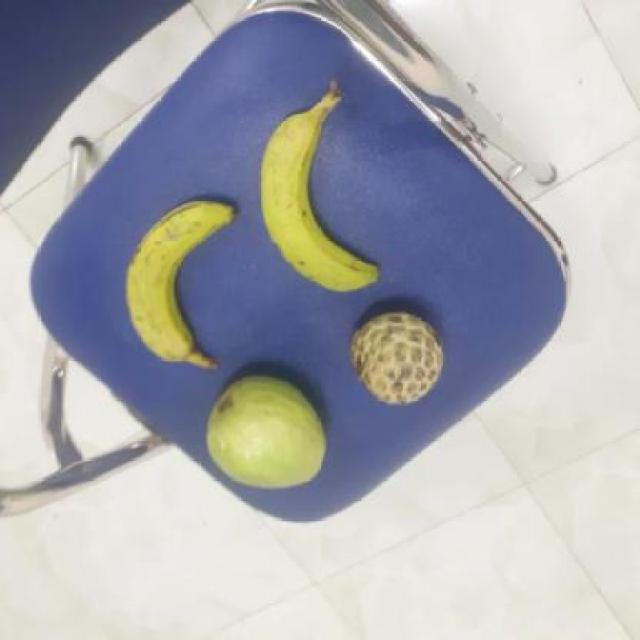banana: (259, 106, 383, 294), (124, 203, 245, 369)
guava: (204, 372, 330, 492)
sugar apple: (352, 310, 448, 404)
